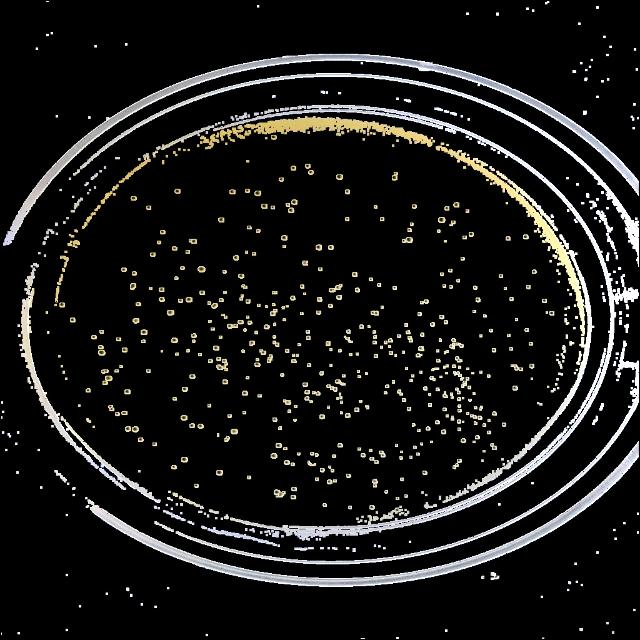colony: (196, 264, 206, 274), (404, 236, 414, 244), (437, 216, 447, 224), (174, 188, 182, 196), (132, 317, 140, 325), (185, 296, 193, 304), (218, 216, 226, 224), (452, 201, 460, 209), (336, 173, 344, 180), (130, 195, 138, 201), (149, 252, 157, 258), (120, 266, 128, 272), (130, 270, 138, 276), (130, 282, 136, 290), (158, 286, 166, 292), (158, 296, 166, 302), (166, 310, 174, 316), (198, 290, 206, 296), (171, 246, 179, 252), (185, 248, 191, 256), (222, 268, 228, 276), (254, 191, 262, 197), (290, 164, 296, 172), (308, 170, 314, 177), (444, 206, 451, 212), (230, 189, 237, 195), (156, 240, 162, 246), (136, 301, 142, 307), (178, 298, 184, 304), (174, 275, 180, 281), (233, 255, 239, 261), (238, 273, 244, 279), (212, 303, 218, 309), (172, 337, 178, 343), (216, 356, 222, 362), (216, 364, 222, 370), (132, 426, 138, 432), (284, 460, 290, 466), (264, 324, 270, 330), (315, 244, 321, 250), (288, 207, 294, 213), (291, 199, 297, 205), (344, 216, 350, 222), (372, 204, 378, 210), (411, 204, 417, 210), (376, 282, 382, 288), (354, 287, 360, 293), (352, 271, 358, 277), (328, 287, 334, 293), (336, 294, 342, 300), (328, 303, 334, 309), (317, 296, 323, 302), (316, 310, 322, 316), (299, 284, 305, 290), (245, 188, 251, 194), (305, 163, 311, 169), (344, 189, 350, 195), (392, 175, 398, 181), (436, 228, 442, 234), (230, 430, 238, 434), (260, 204, 268, 208), (402, 238, 406, 245), (145, 206, 151, 210), (160, 230, 166, 234), (147, 286, 153, 290), (192, 240, 198, 244), (213, 346, 219, 350), (208, 359, 214, 363), (182, 387, 188, 391), (124, 390, 130, 394), (142, 330, 146, 336), (98, 351, 104, 355), (106, 376, 112, 380), (198, 424, 204, 428), (216, 470, 222, 474), (182, 456, 186, 462), (276, 444, 282, 448), (271, 454, 277, 458), (373, 478, 377, 484), (461, 438, 465, 444), (326, 340, 330, 346), (304, 390, 310, 394), (302, 382, 308, 386), (254, 363, 260, 367), (270, 312, 276, 316), (240, 294, 246, 298), (290, 296, 296, 300), (281, 236, 287, 240), (302, 261, 308, 265), (328, 246, 334, 250), (256, 228, 260, 234), (270, 206, 276, 210), (380, 216, 384, 222), (406, 228, 412, 232), (392, 286, 398, 290), (368, 278, 374, 282), (335, 286, 341, 290), (278, 178, 284, 182), (465, 209, 471, 213), (448, 223, 454, 227), (450, 220, 456, 224), (462, 236, 468, 240), (468, 232, 474, 236), (222, 381, 228, 384), (378, 451, 384, 454), (180, 266, 184, 270), (188, 239, 192, 243), (219, 298, 223, 302), (192, 334, 196, 338), (186, 349, 190, 353), (222, 359, 226, 363), (224, 362, 228, 366), (190, 375, 194, 379), (123, 348, 127, 352), (92, 335, 96, 339), (99, 345, 103, 349), (86, 388, 90, 392), (126, 427, 130, 431), (70, 318, 74, 322), (60, 303, 64, 307), (182, 416, 186, 420), (190, 424, 194, 428), (275, 490, 279, 494), (279, 492, 283, 496), (320, 468, 324, 472), (328, 480, 332, 484), (310, 452, 314, 456), (291, 462, 295, 466), (273, 418, 277, 422), (320, 415, 324, 419), (286, 400, 290, 404), (346, 414, 350, 418), (355, 408, 359, 412), (395, 508, 399, 512), (404, 494, 408, 498), (423, 471, 427, 475), (492, 412, 496, 416), (478, 408, 482, 412), (468, 398, 472, 402), (457, 408, 461, 412), (442, 408, 446, 412), (472, 392, 476, 396), (457, 391, 461, 395), (443, 394, 447, 398), (402, 398, 406, 402), (432, 378, 436, 382), (431, 368, 435, 372), (463, 381, 467, 385), (452, 364, 456, 368), (492, 348, 496, 352), (513, 386, 517, 390), (530, 364, 534, 368), (550, 311, 554, 315), (542, 299, 546, 303), (532, 270, 536, 274), (452, 338, 456, 342), (388, 338, 392, 342), (374, 354, 378, 358), (342, 374, 346, 378), (326, 384, 330, 388), (333, 387, 337, 391), (316, 392, 320, 396), (319, 372, 323, 376), (306, 336, 310, 340), (292, 359, 296, 363), (275, 343, 279, 347), (269, 354, 273, 358), (262, 351, 266, 355), (255, 358, 259, 362), (250, 341, 254, 345), (282, 318, 286, 322), (273, 309, 277, 313), (248, 321, 252, 325), (243, 328, 247, 332), (238, 320, 242, 324), (234, 324, 238, 328), (228, 324, 232, 328), (246, 299, 250, 303), (264, 305, 268, 309), (274, 290, 278, 294), (241, 284, 245, 288), (252, 252, 256, 256), (318, 267, 322, 271), (248, 226, 252, 230), (286, 203, 290, 207), (410, 222, 414, 226), (338, 283, 342, 287), (332, 288, 336, 292), (300, 312, 304, 316), (303, 292, 307, 296), (394, 172, 398, 176), (208, 321, 212, 324), (115, 412, 118, 416), (225, 438, 228, 442), (195, 484, 198, 488), (346, 474, 349, 478), (278, 426, 282, 429), (375, 461, 379, 464), (384, 491, 388, 494), (348, 506, 352, 509), (492, 446, 496, 449), (442, 431, 446, 434), (421, 442, 424, 446), (478, 416, 482, 419), (474, 406, 478, 409), (481, 405, 484, 409), (392, 381, 396, 384), (514, 366, 518, 369), (418, 346, 422, 349), (421, 333, 424, 337), (384, 341, 388, 344), (406, 331, 410, 334), (431, 322, 434, 326), (444, 321, 448, 324), (372, 341, 376, 344), (372, 331, 376, 334), (361, 325, 364, 329), (346, 330, 349, 334), (334, 380, 340, 382), (306, 331, 310, 334), (232, 324, 235, 328), (282, 245, 286, 248), (102, 371, 105, 374), (227, 436, 230, 439), (356, 371, 359, 374), (331, 386, 334, 389), (255, 331, 258, 334), (245, 250, 248, 253), (223, 292, 227, 294), (207, 302, 211, 304), (221, 314, 225, 316), (224, 316, 228, 318), (211, 328, 215, 330), (176, 352, 178, 356), (198, 354, 202, 356), (222, 366, 226, 368), (146, 370, 150, 372), (142, 340, 146, 342), (116, 338, 120, 340), (104, 370, 108, 372), (103, 382, 107, 384), (108, 406, 112, 408), (122, 412, 126, 414), (140, 438, 142, 442), (243, 392, 247, 394), (258, 395, 262, 397), (228, 415, 232, 417), (276, 494, 278, 498), (292, 488, 296, 490), (292, 496, 296, 498), (322, 504, 326, 506), (332, 455, 336, 457), (294, 418, 296, 422), (338, 444, 342, 446), (381, 454, 385, 456), (370, 506, 374, 508), (452, 466, 456, 468), (502, 424, 506, 426), (476, 435, 478, 439), (417, 452, 419, 456), (446, 414, 448, 418), (458, 404, 460, 408), (458, 397, 460, 401), (462, 398, 466, 400), (455, 388, 459, 390), (450, 392, 452, 396), (436, 388, 440, 390), (428, 404, 432, 406), (424, 386, 426, 390), (398, 390, 400, 394), (386, 384, 388, 388), (410, 378, 412, 382), (436, 360, 440, 362), (462, 384, 464, 388), (458, 374, 462, 376), (453, 371, 455, 375), (458, 366, 462, 368), (488, 374, 490, 378), (446, 364, 448, 368), (514, 364, 516, 368), (530, 342, 532, 346), (526, 286, 530, 288), (500, 274, 502, 278), (480, 334, 482, 338), (460, 344, 462, 348), (459, 342, 461, 346), (452, 344, 456, 346), (450, 344, 452, 348), (439, 338, 441, 342), (422, 348, 424, 352), (408, 337, 412, 339), (398, 334, 400, 338), (404, 324, 408, 326), (440, 316, 444, 318), (356, 352, 358, 356), (338, 350, 342, 352), (358, 374, 360, 378), (364, 372, 368, 374), (280, 374, 284, 376), (307, 364, 311, 366), (297, 344, 301, 346), (286, 349, 288, 353), (274, 340, 276, 344), (272, 336, 276, 338), (267, 360, 271, 362), (268, 358, 272, 360), (260, 350, 264, 352), (274, 323, 276, 327), (218, 336, 222, 338), (239, 298, 243, 300), (257, 304, 261, 306), (272, 304, 276, 306), (282, 306, 284, 310), (286, 304, 288, 308), (272, 291, 274, 295), (244, 285, 246, 289), (192, 340, 195, 342), (225, 369, 228, 371), (100, 331, 102, 334), (115, 370, 118, 372), (247, 377, 250, 379), (172, 466, 175, 468), (306, 396, 308, 399), (326, 406, 329, 408), (366, 407, 369, 409), (371, 458, 374, 460), (396, 496, 398, 499), (401, 478, 404, 480), (491, 444, 494, 446), (426, 428, 429, 430), (436, 421, 438, 424), (451, 418, 454, 420), (471, 415, 474, 417), (466, 412, 469, 414), (451, 396, 454, 398), (420, 371, 422, 374), (430, 376, 432, 379), (436, 368, 439, 370), (466, 378, 469, 380), (456, 372, 459, 374), (456, 356, 458, 359), (436, 350, 439, 352), (416, 354, 419, 356), (381, 346, 384, 348), (340, 396, 342, 399), (340, 401, 342, 404), (247, 316, 250, 318), (174, 398, 176, 400), (120, 366, 122, 368), (110, 408, 112, 410), (154, 443, 156, 445), (208, 404, 210, 406), (243, 412, 245, 414), (248, 476, 250, 478), (282, 492, 284, 494), (316, 478, 318, 480), (334, 480, 336, 482), (331, 469, 333, 471), (329, 466, 331, 468), (316, 454, 318, 456), (298, 453, 300, 455), (284, 447, 286, 449), (288, 410, 290, 412), (294, 405, 296, 407), (283, 400, 285, 402), (310, 401, 312, 403), (340, 412, 342, 414), (366, 405, 368, 407), (358, 448, 360, 450), (362, 454, 364, 456), (370, 449, 372, 451), (374, 485, 376, 487), (456, 464, 458, 466), (458, 460, 460, 462), (483, 450, 485, 452), (488, 431, 490, 433), (488, 419, 490, 421), (483, 424, 485, 426), (458, 428, 460, 430), (418, 430, 420, 432), (414, 446, 416, 448), (410, 456, 412, 458), (431, 441, 433, 443), (412, 424, 414, 426), (396, 444, 398, 446), (452, 416, 454, 418), (458, 420, 460, 422), (474, 422, 476, 424), (474, 416, 476, 418), (468, 386, 470, 388), (444, 392, 446, 394), (429, 394, 431, 396), (408, 408, 410, 410), (400, 393, 402, 395), (384, 392, 386, 394), (412, 375, 414, 377), (405, 367, 407, 369), (440, 376, 442, 378), (445, 372, 447, 374), (434, 368, 436, 370), (462, 377, 464, 379), (467, 368, 469, 370), (472, 372, 474, 374), (480, 371, 482, 373), (443, 366, 445, 368), (458, 360, 460, 362), (510, 348, 512, 350), (511, 365, 513, 367), (520, 368, 522, 370), (526, 329, 528, 331), (508, 334, 510, 336), (515, 318, 517, 320), (510, 298, 512, 300), (504, 287, 506, 289), (484, 315, 486, 317), (490, 329, 492, 331), (456, 343, 458, 345), (452, 346, 454, 348), (446, 351, 448, 353), (444, 352, 446, 354), (420, 354, 422, 356), (410, 340, 412, 342), (402, 351, 404, 353), (390, 352, 392, 354), (388, 346, 390, 348), (374, 336, 376, 338), (368, 326, 370, 328), (346, 337, 348, 339), (349, 353, 351, 355), (330, 349, 332, 351), (359, 400, 361, 402), (312, 392, 314, 394), (330, 364, 332, 366), (296, 354, 298, 356), (292, 354, 294, 356), (242, 350, 244, 352), (250, 344, 252, 346), (461, 378, 464, 379)
